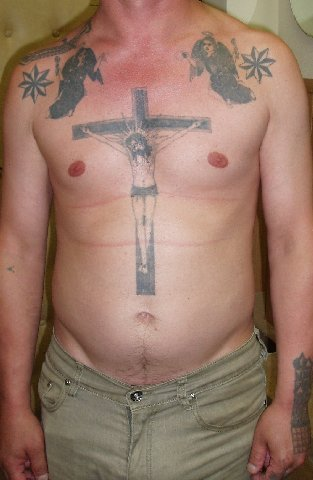tatu1_angel: (177, 31, 254, 107), (52, 47, 111, 127)
tatu4_zvezda: (234, 46, 272, 84), (18, 69, 48, 105)
tatu9_krest: (63, 79, 235, 322)
